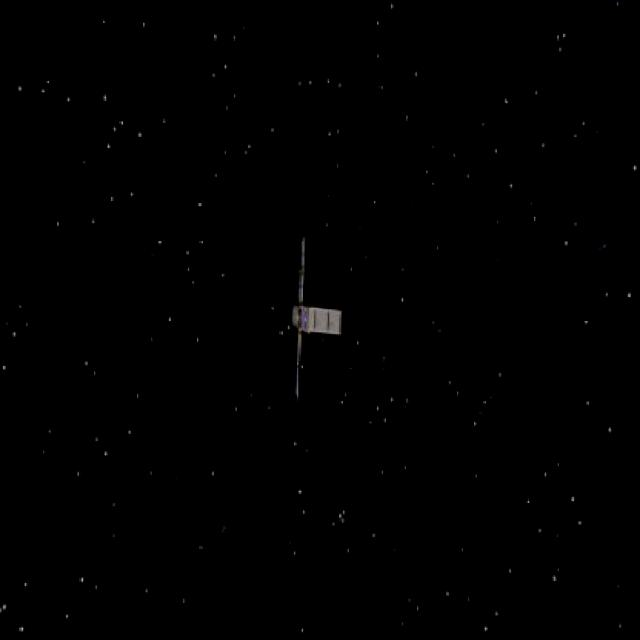medium_debris: (278, 229, 354, 408)
